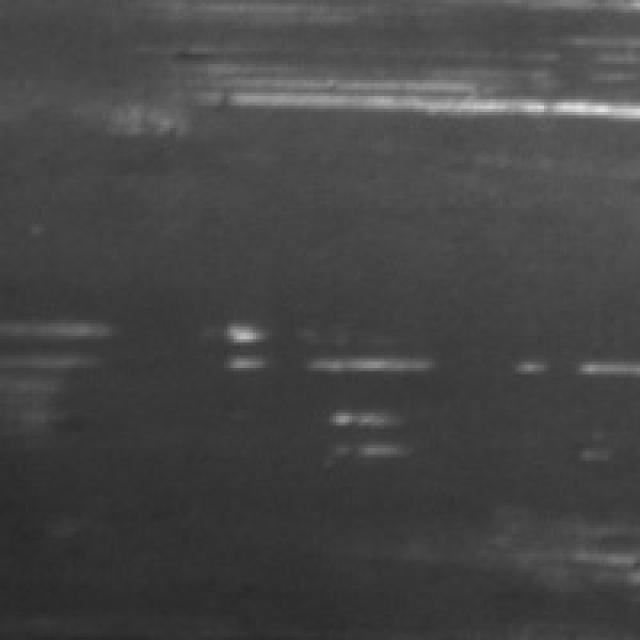scratches: (124, 48, 634, 128)
